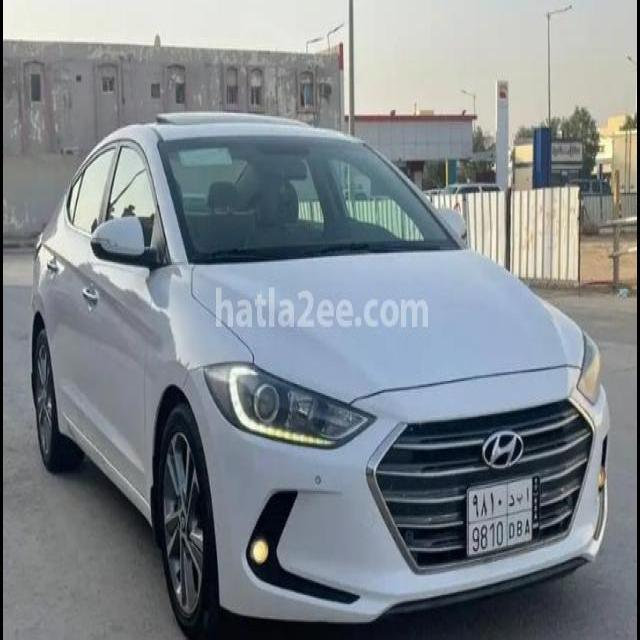license_plate: (460, 466, 540, 566)
